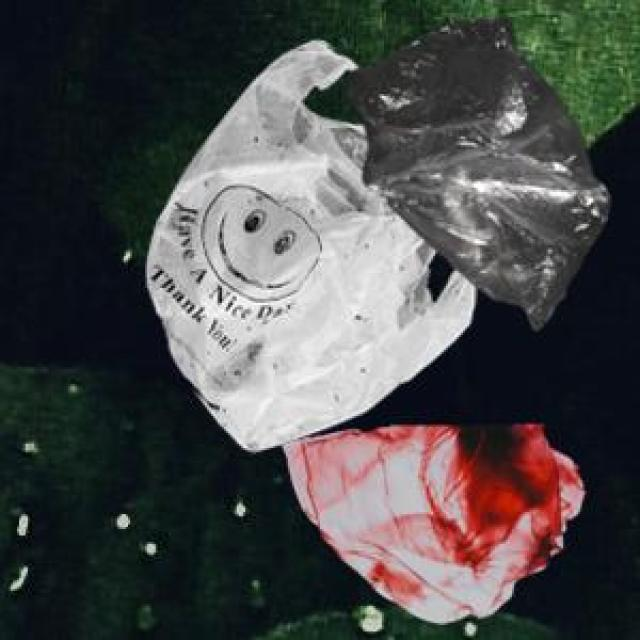plastic: (127, 17, 621, 631)
